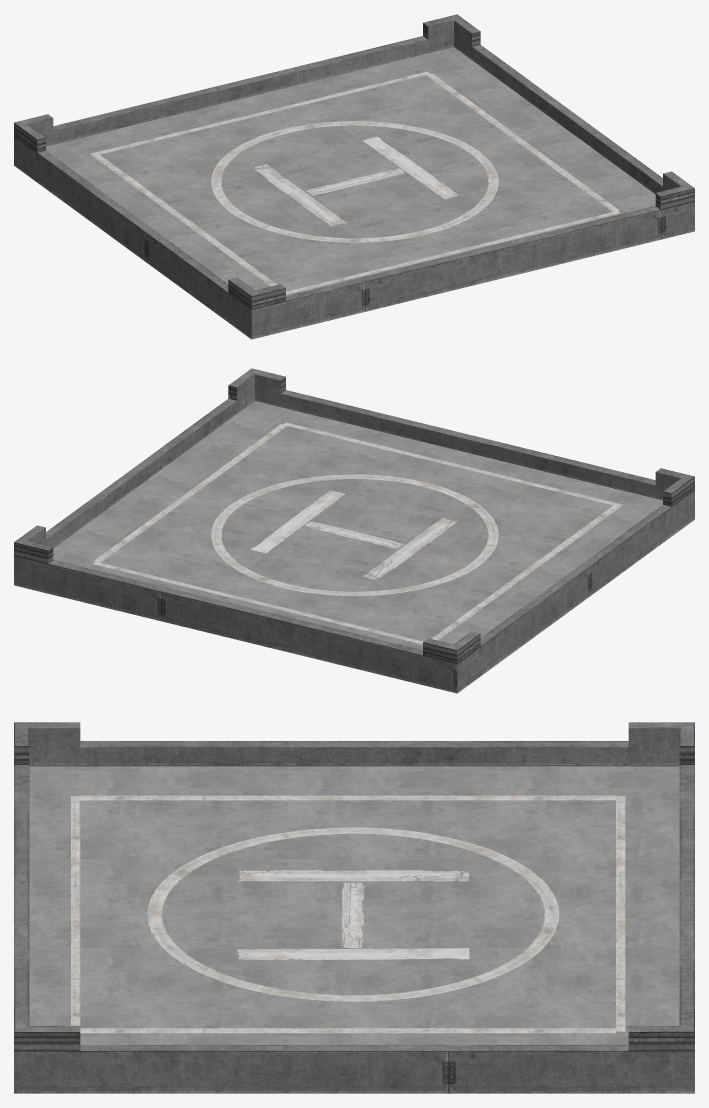
Rendered from HH_Hospital_Helipad.fbx.
3 renders of one model, top to bottom at view 1: azimuth 30°, elevation 25°; view 2: azimuth 150°, elevation 25°; view 3: azimuth 270°, elevation 25°, orthographic. The views are drawn at different scales.
Parts seen in each view (by area): view 1: HH_Hospital_Helipad_LOD0; view 2: HH_Hospital_Helipad_LOD0; view 3: HH_Hospital_Helipad_LOD0.
Part boxes in pixels (bbox=[...]): HH_Hospital_Helipad_LOD0: bbox=[14, 14, 694, 339]; HH_Hospital_Helipad_LOD0: bbox=[14, 368, 694, 693]; HH_Hospital_Helipad_LOD0: bbox=[14, 722, 694, 1093].
Size of what is drawn, in the model's own units: 1400 by 130 by 1300.
